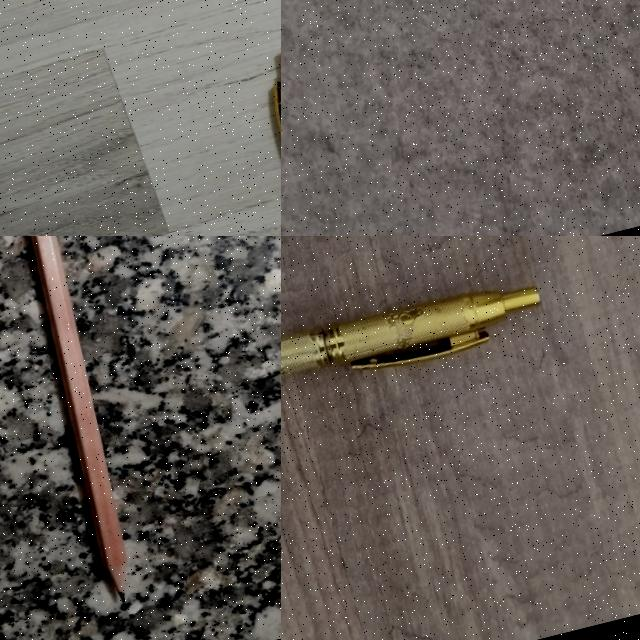pencil: (30, 236, 125, 600)
signature pen: (281, 287, 538, 375)
